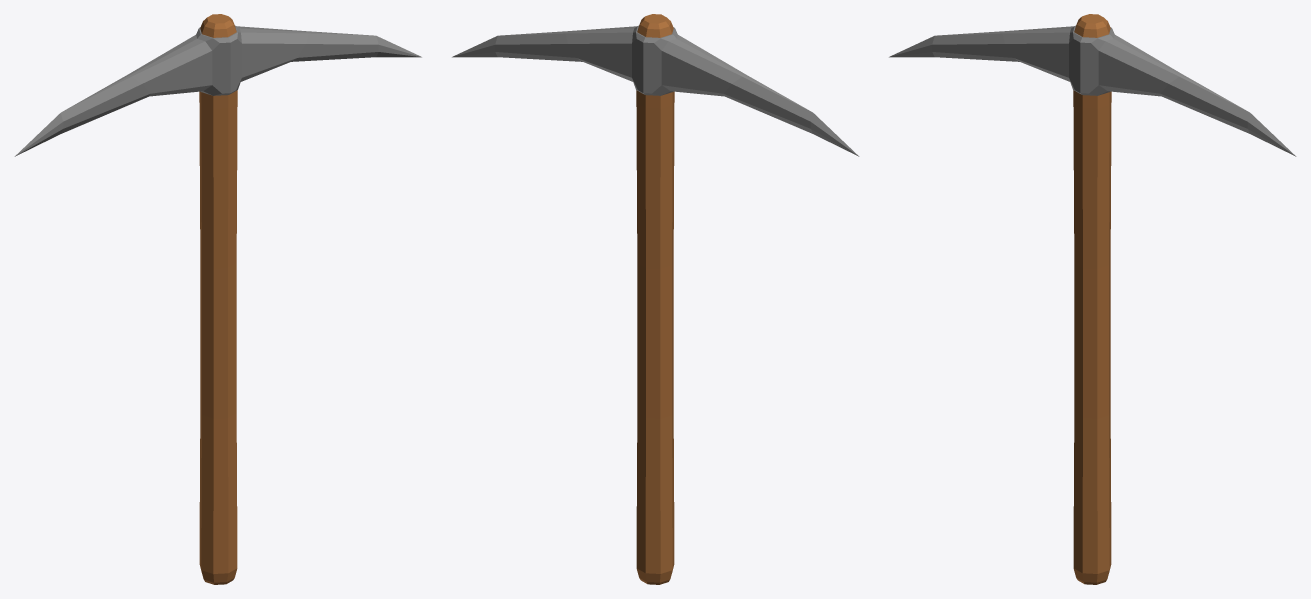
Rendered from metalpick.fbx.
The picture shows the model from 3 angles, left to right: view 1: azimuth 30°, elevation 25°; view 2: azimuth 150°, elevation 25°; view 3: azimuth 330°, elevation 25°; orthographic projection.
Visible parts, largest first — view 1: Plane; view 2: Plane; view 3: Plane.
Part boxes in pixels (x1,y1,x2,y2): Plane: (14, 14, 421, 584); Plane: (452, 14, 859, 584); Plane: (889, 14, 1296, 584).
Bounding box in the file's own units: 1728 × 2261 × 180.
